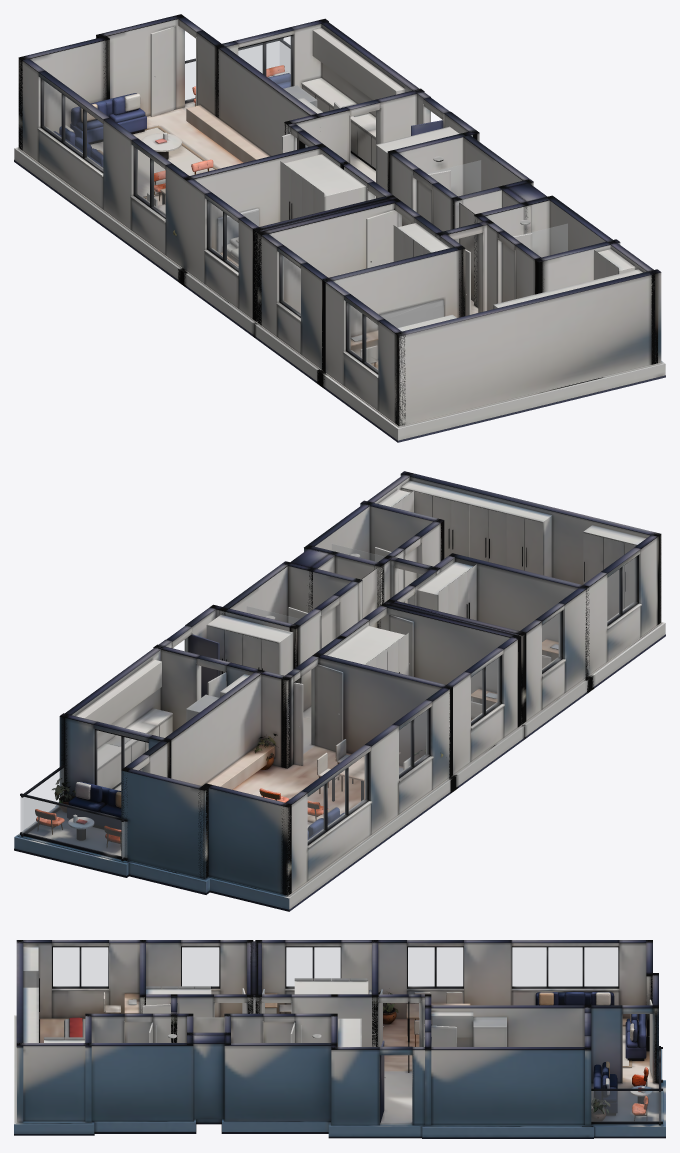
3 views of the same model, one above another, from view 1: azimuth 30°, elevation 25°; view 2: azimuth 150°, elevation 25°; view 3: azimuth 270°, elevation 25° (orthographic). The views are drawn at different scales.
Parts seen in each view (by area): view 1: plan, glass0_m, glass5_m, glass1_m, glass2_m, glass4_m, railg0_m, sg.001_m, sg_m, glass3_m; view 2: plan, railg0_m, glass0_m, glass5_m, glass1_m, glass2_m, glass4_m, railg5_m, glass3_m; view 3: plan, glass0_m, glass4_m, railg5_m, glass1_m, glass2_m, glass3_m.
Boxes of the visible parts, bbox=[...] form: plan: bbox=[14, 14, 665, 442]; glass0_m: bbox=[42, 80, 102, 169]; glass5_m: bbox=[238, 36, 291, 88]; glass1_m: bbox=[135, 148, 165, 215]; glass2_m: bbox=[209, 202, 238, 268]; glass4_m: bbox=[348, 304, 377, 371]; railg0_m: bbox=[185, 41, 278, 100]; sg.001_m: bbox=[527, 224, 567, 256]; sg_m: bbox=[427, 160, 480, 195]; glass3_m: bbox=[281, 255, 300, 314]; plan: bbox=[14, 471, 665, 911]; railg0_m: bbox=[20, 796, 126, 857]; glass0_m: bbox=[308, 754, 366, 842]; glass5_m: bbox=[96, 731, 148, 790]; glass1_m: bbox=[399, 709, 428, 775]; glass2_m: bbox=[471, 657, 499, 722]; glass4_m: bbox=[607, 557, 636, 622]; railg5_m: bbox=[22, 768, 63, 833]; glass3_m: bbox=[542, 612, 560, 670]; plan: bbox=[14, 940, 665, 1138]; glass0_m: bbox=[512, 947, 617, 986]; glass4_m: bbox=[53, 947, 107, 986]; railg5_m: bbox=[591, 1091, 662, 1121]; glass1_m: bbox=[408, 947, 462, 986]; glass2_m: bbox=[286, 947, 340, 986]; glass3_m: bbox=[182, 947, 218, 986].
Bounding box in the file's own units: 7.21 × 2.62 × 17.67.
2 materials, 1 textured.
